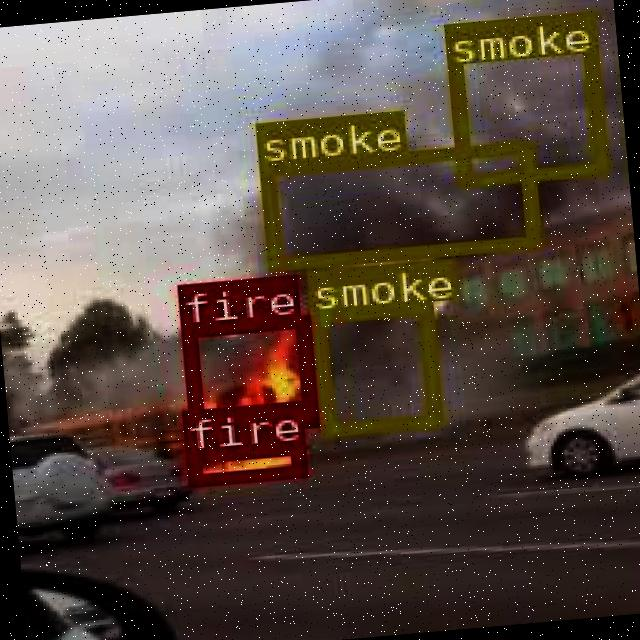fire: (178, 314, 314, 434), (185, 440, 302, 483)
smoke: (258, 139, 536, 268), (443, 10, 606, 185), (307, 300, 440, 433)
